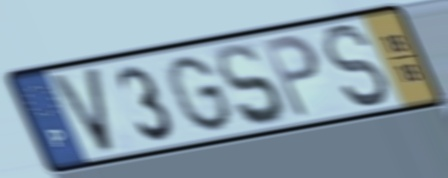3: (116, 62, 174, 144)
G: (164, 53, 237, 134)
P: (258, 30, 325, 122)
S: (318, 22, 394, 110), (214, 40, 288, 130)
V: (46, 63, 118, 158)
